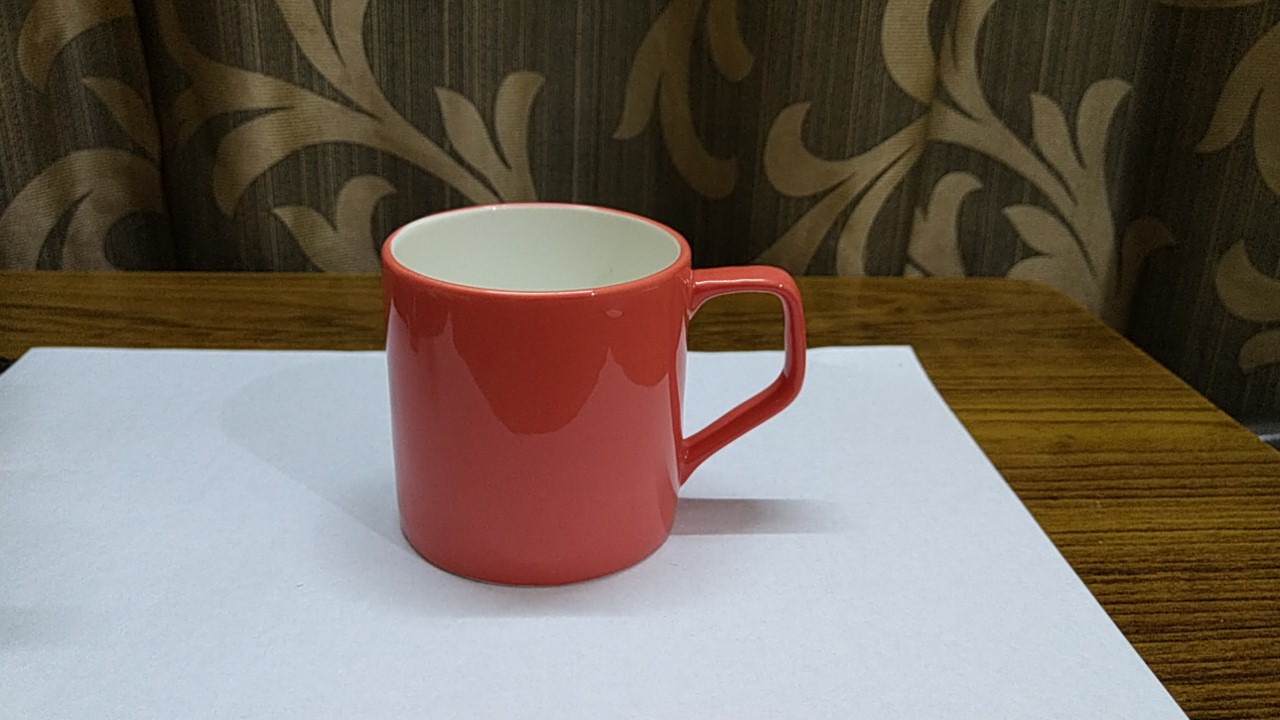cup: (372, 197, 814, 598)
